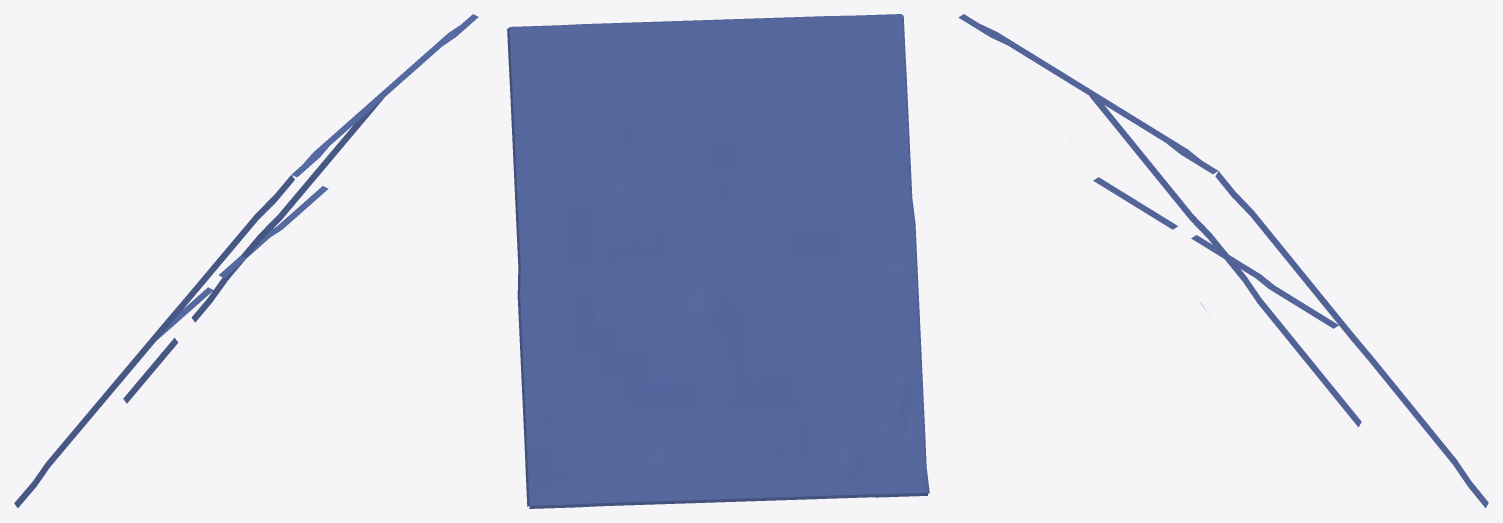
3 renders of one model, left to right at view 1: azimuth 30°, elevation 25°; view 2: azimuth 150°, elevation 25°; view 3: azimuth 270°, elevation 25°, orthographic. The views are drawn at different scales.
Size of the model in its own units: 158992 by 129123 by 149492.
Materials: 1 (1 with a texture image).
